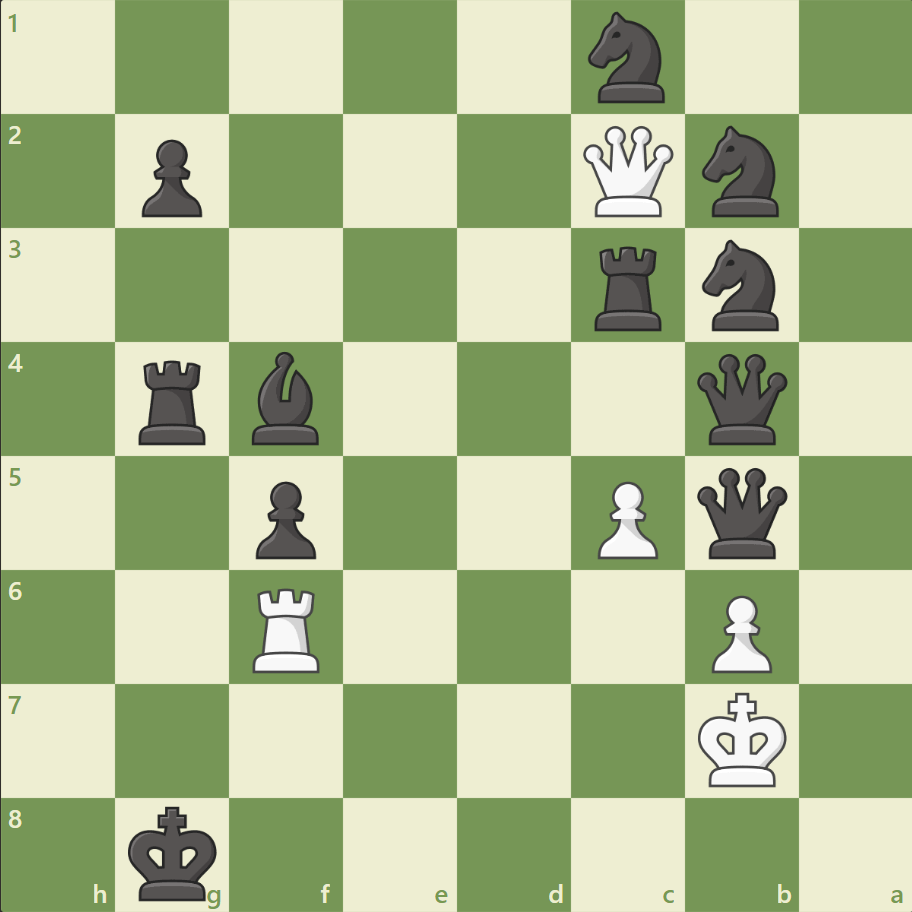K: (692, 685, 792, 793)
P: (701, 586, 776, 677), (588, 473, 662, 564)
Q: (578, 122, 677, 222)
R: (246, 579, 329, 676)
b: (244, 347, 328, 449)
k: (124, 798, 224, 906)
n: (692, 234, 789, 337), (579, 7, 676, 110), (692, 121, 789, 223)
p: (247, 473, 322, 564), (133, 132, 208, 223)
q: (691, 349, 790, 449), (691, 463, 790, 562)
r: (587, 239, 670, 336), (133, 352, 215, 449)
